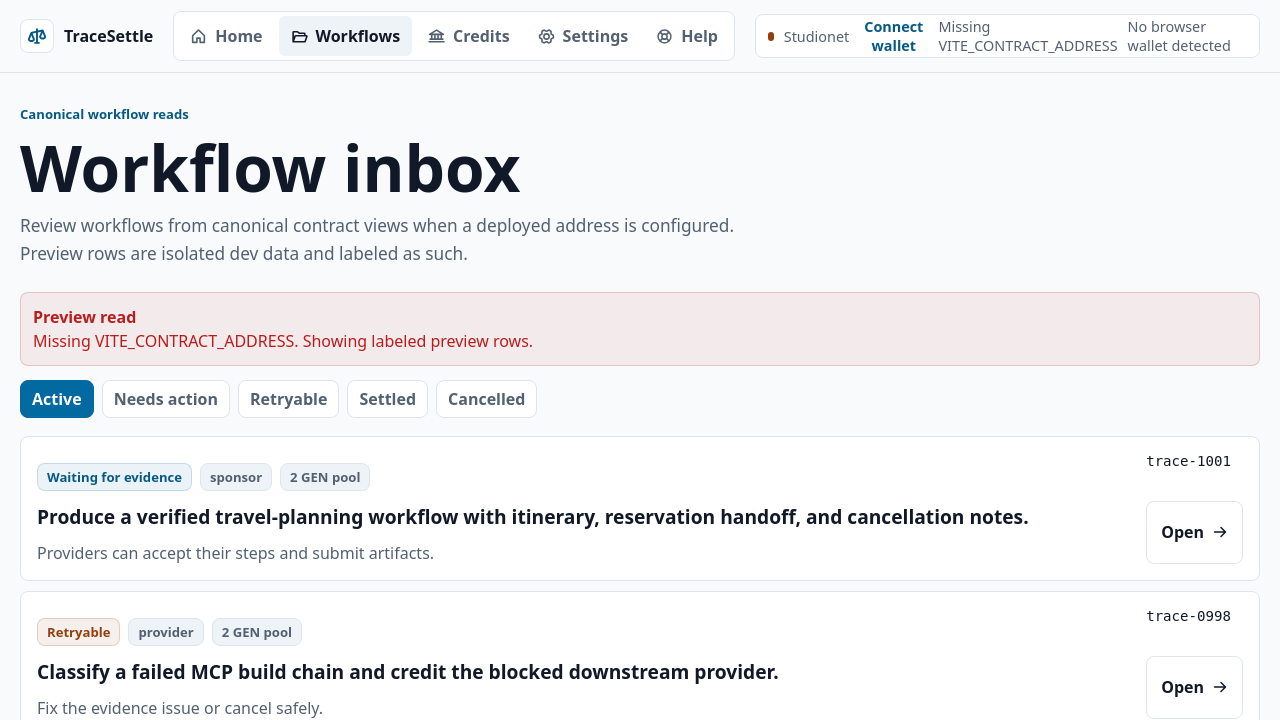
it: TraceSettle route map › filters workflow rows and exposes the active filter state
The width and height of the screenshot is (1280, 720).
Expected: the text "Settle a DAO scheduler workflow after one provider introduced a material fault." is not shown
Click the button "Settled" at (388, 398), box [347,380,428,418]
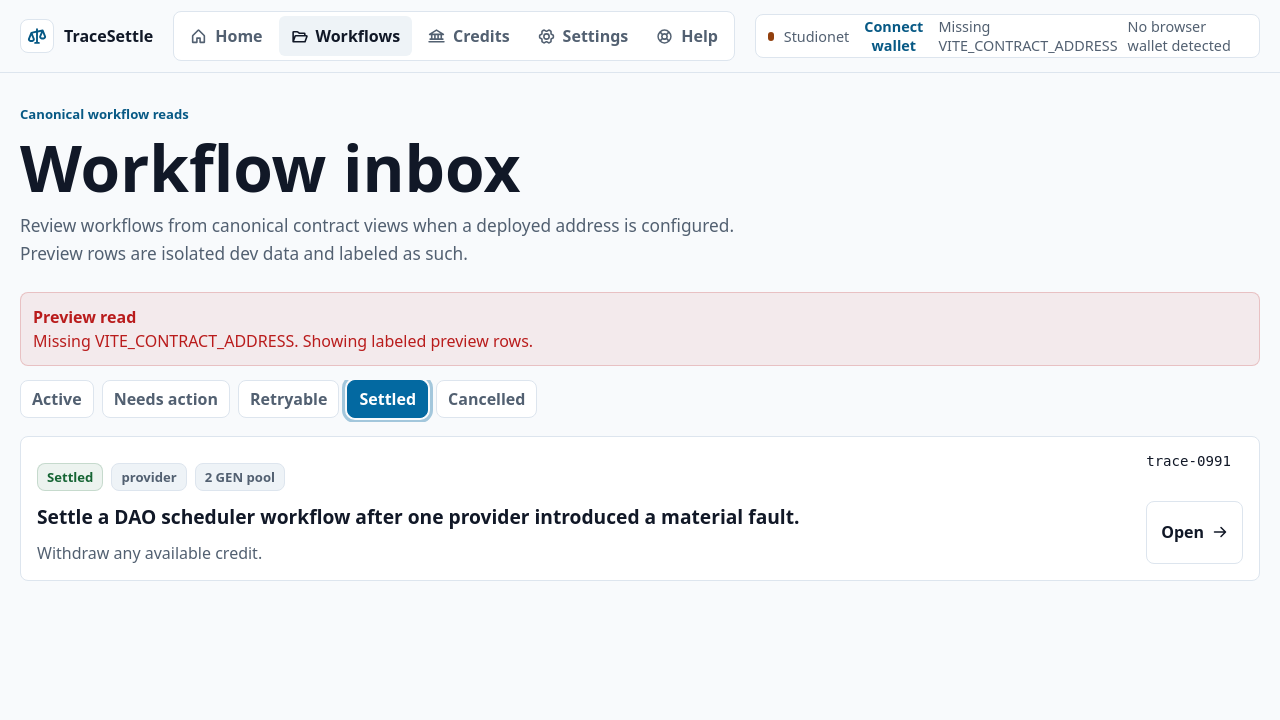
Expected: the heading "Settle a DAO scheduler workflow after one provider introduced a material fault." is shown, [37,502,800,530]
Expected: the link "Produce a verified travel-planning workflow with itinerary, reservation handoff, and cancellation notes." is gone
Click the button "Cancelled" at (487, 398), box [436,380,537,418]
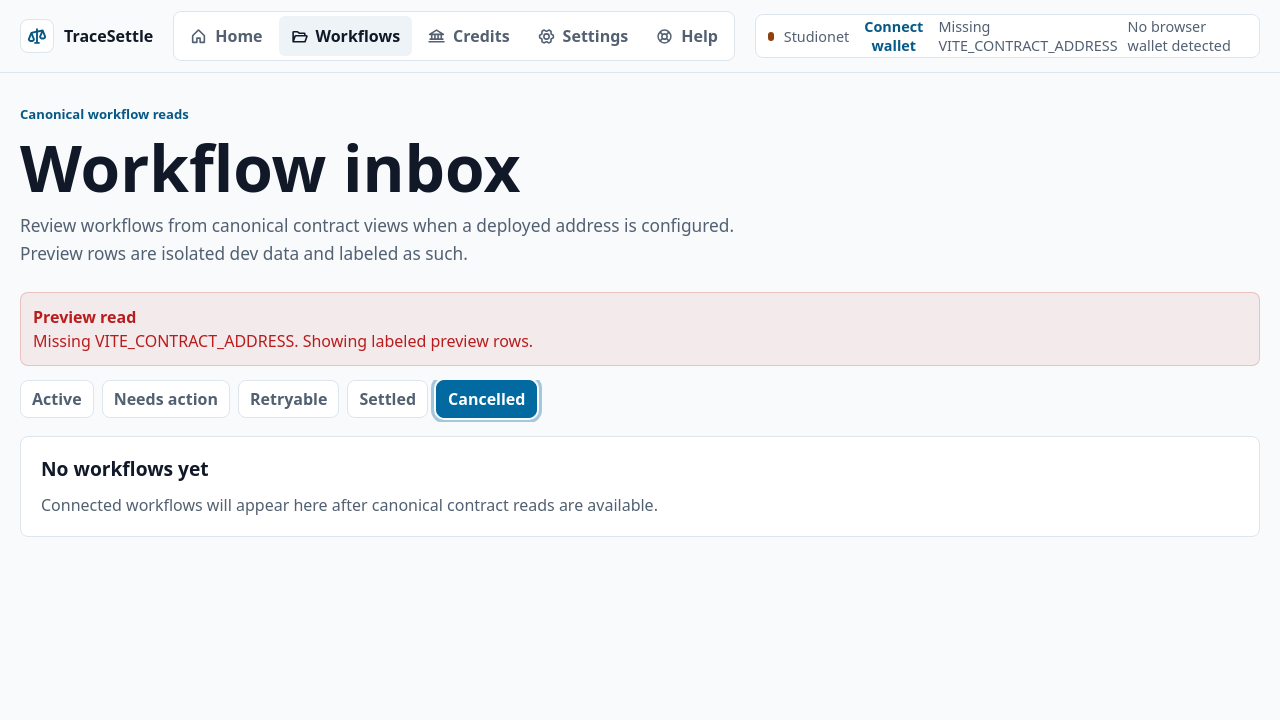
Expected: the heading "No workflows yet" is shown, [41,454,209,482]
